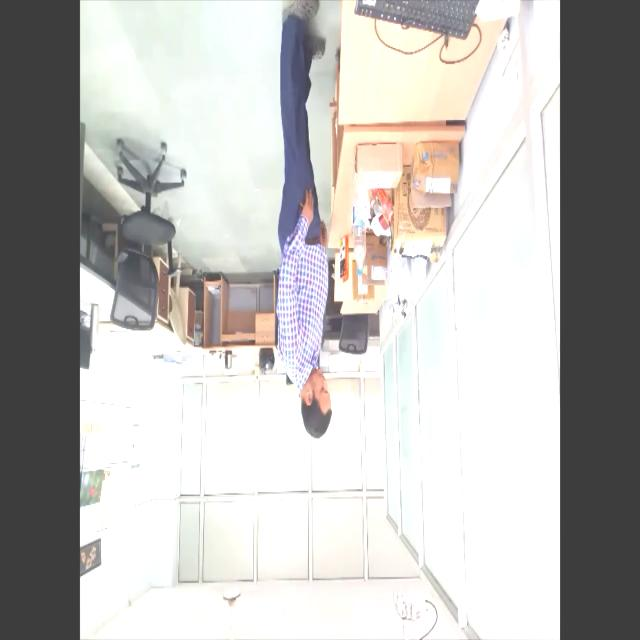shoplifting: (262, 0, 335, 461)
